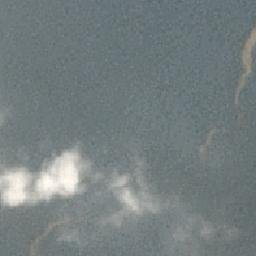cloud: (1, 139, 102, 210), (107, 167, 174, 221)
debris: (236, 28, 256, 108), (30, 230, 41, 256)
